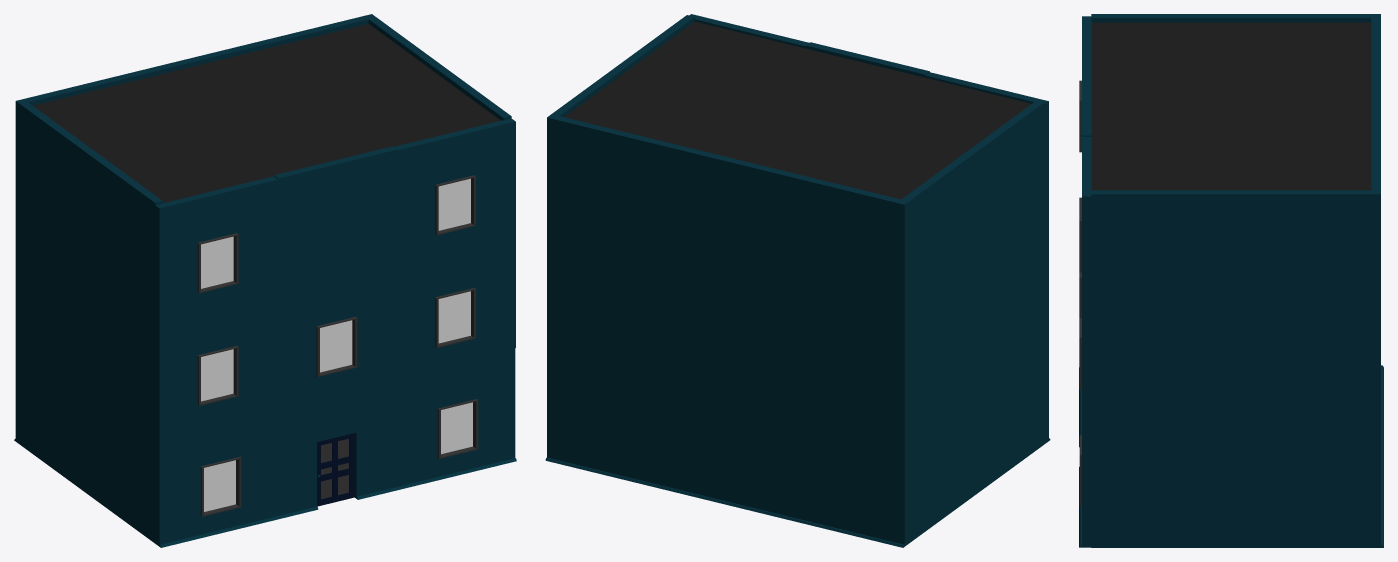
Rendered from side house5.fbx.
3 renders of one model, left to right at view 1: azimuth 30°, elevation 25°; view 2: azimuth 150°, elevation 25°; view 3: azimuth 270°, elevation 25°, orthographic. The views are drawn at different scales.
Visible parts, largest first — view 1: PLAIN WALL.077; view 2: PLAIN WALL.077; view 3: PLAIN WALL.077.
Boxes of the visible parts, left/top/right/bottom form: PLAIN WALL.077: left=14, top=14, right=516, bottom=547; PLAIN WALL.077: left=545, top=14, right=1050, bottom=547; PLAIN WALL.077: left=1079, top=14, right=1383, bottom=547.
Size of the model in its own units: 90.03 by 82.22 by 64.28.
